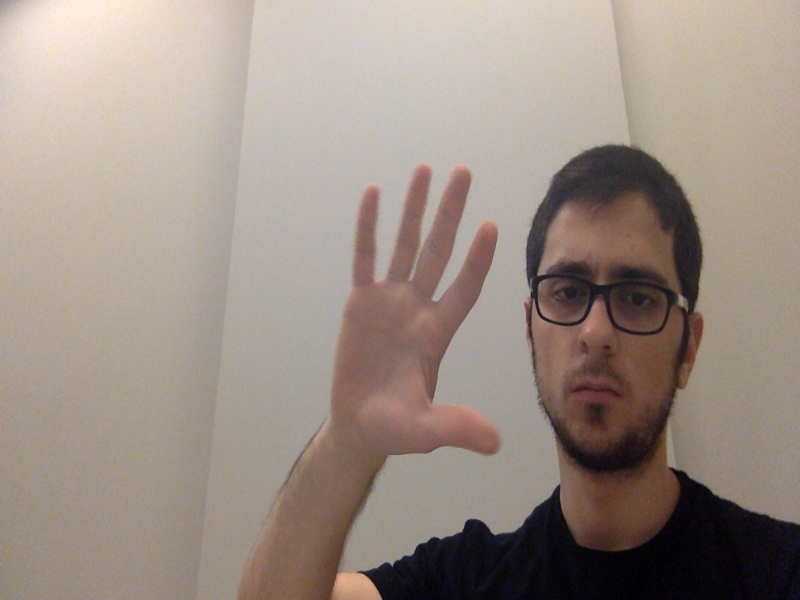5-hand: (329, 163, 504, 461)
